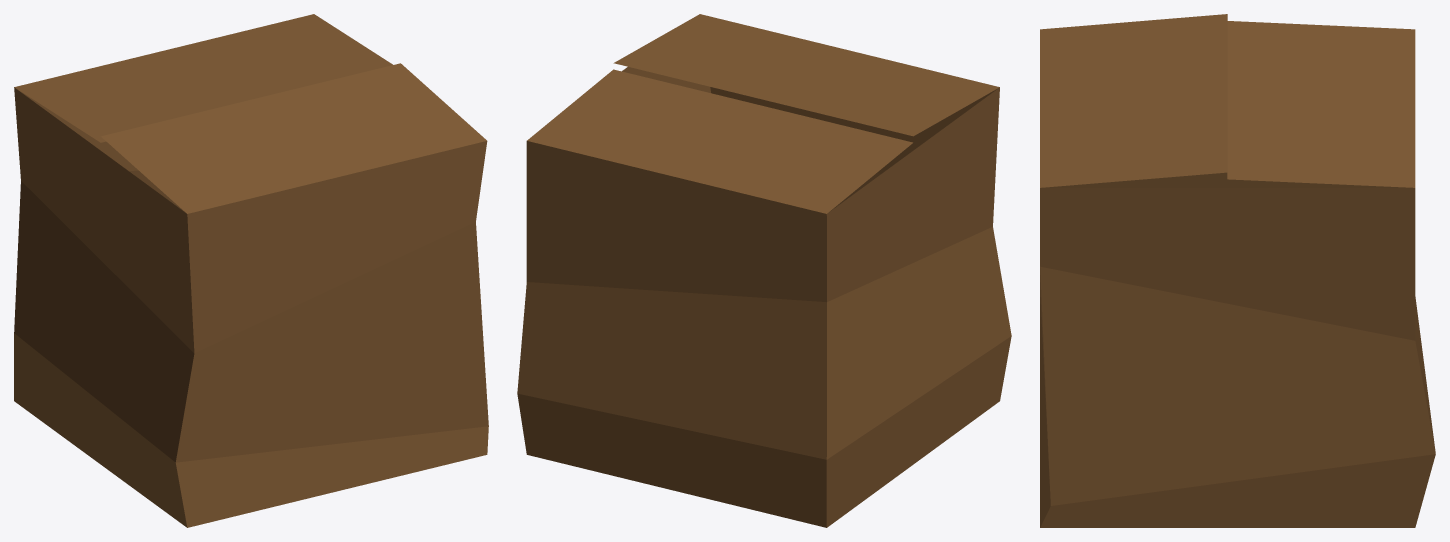
3 views of the same model, side by side, from view 1: azimuth 30°, elevation 25°; view 2: azimuth 150°, elevation 25°; view 3: azimuth 270°, elevation 25° (orthographic). The views are drawn at different scales.
Parts seen in each view (by area): view 1: Cube.019; view 2: Cube.019; view 3: Cube.019.
Part boxes in pixels (<box>): Cube.019: <box>14,14,488,527</box>; Cube.019: <box>517,14,1011,527</box>; Cube.019: <box>1040,14,1435,527</box>.
Bounding box in the file's own units: 727 × 717 × 724.
